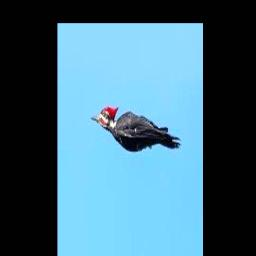Woodpecker: (92, 105, 181, 152)
